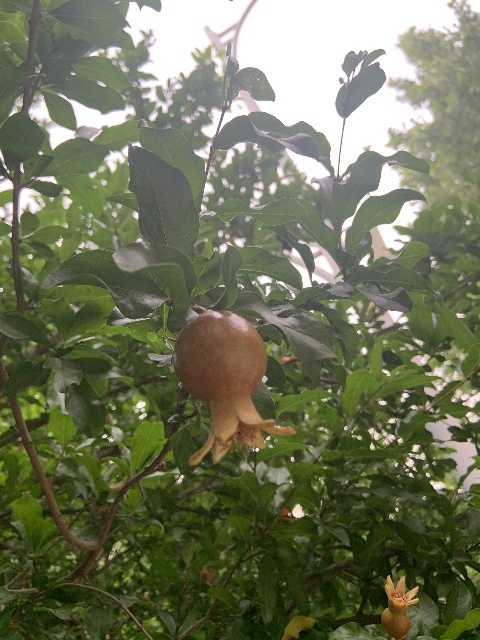early-fruit: (173, 308, 296, 465), (380, 573, 420, 639)
